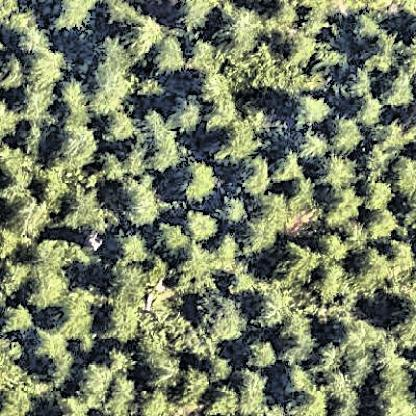tree-top: (240, 193, 293, 254), (115, 171, 170, 229), (365, 353, 416, 415), (83, 51, 133, 111), (50, 118, 103, 172), (2, 191, 58, 241), (59, 180, 112, 232), (213, 2, 265, 54), (18, 259, 71, 309), (202, 296, 251, 347), (57, 291, 103, 345), (30, 324, 78, 375), (215, 115, 267, 162), (143, 122, 186, 175), (21, 48, 69, 93), (272, 243, 321, 287), (16, 78, 61, 124), (99, 299, 144, 345), (319, 183, 368, 225), (338, 316, 387, 358), (71, 357, 115, 403), (180, 158, 222, 206), (315, 151, 362, 193), (49, 1, 105, 36), (254, 286, 299, 329), (102, 265, 157, 299), (361, 79, 404, 122), (233, 368, 275, 412), (309, 260, 351, 304), (184, 34, 226, 78), (112, 228, 157, 269), (236, 152, 277, 196), (353, 245, 395, 287), (124, 15, 166, 56), (98, 107, 141, 147), (151, 33, 189, 75), (1, 378, 42, 416), (293, 91, 334, 128), (379, 67, 416, 108), (206, 80, 241, 123), (170, 94, 207, 134), (177, 367, 214, 407), (1, 333, 28, 387), (1, 143, 32, 190), (326, 116, 364, 153), (360, 176, 398, 213), (159, 219, 189, 265), (244, 336, 282, 372), (362, 205, 400, 241), (203, 381, 242, 416), (296, 126, 332, 163), (287, 364, 324, 400), (184, 209, 222, 244), (177, 1, 218, 33), (350, 92, 387, 127), (349, 8, 387, 42), (218, 191, 252, 227), (331, 373, 360, 415), (285, 32, 319, 67), (271, 148, 303, 185), (137, 386, 175, 416), (2, 50, 27, 95), (292, 390, 335, 416), (391, 306, 416, 350), (287, 319, 315, 358), (4, 302, 38, 334), (391, 157, 416, 198), (187, 248, 215, 281), (389, 237, 416, 271), (364, 142, 388, 178), (2, 96, 19, 140), (274, 1, 299, 29), (347, 362, 375, 386), (322, 346, 342, 375)
